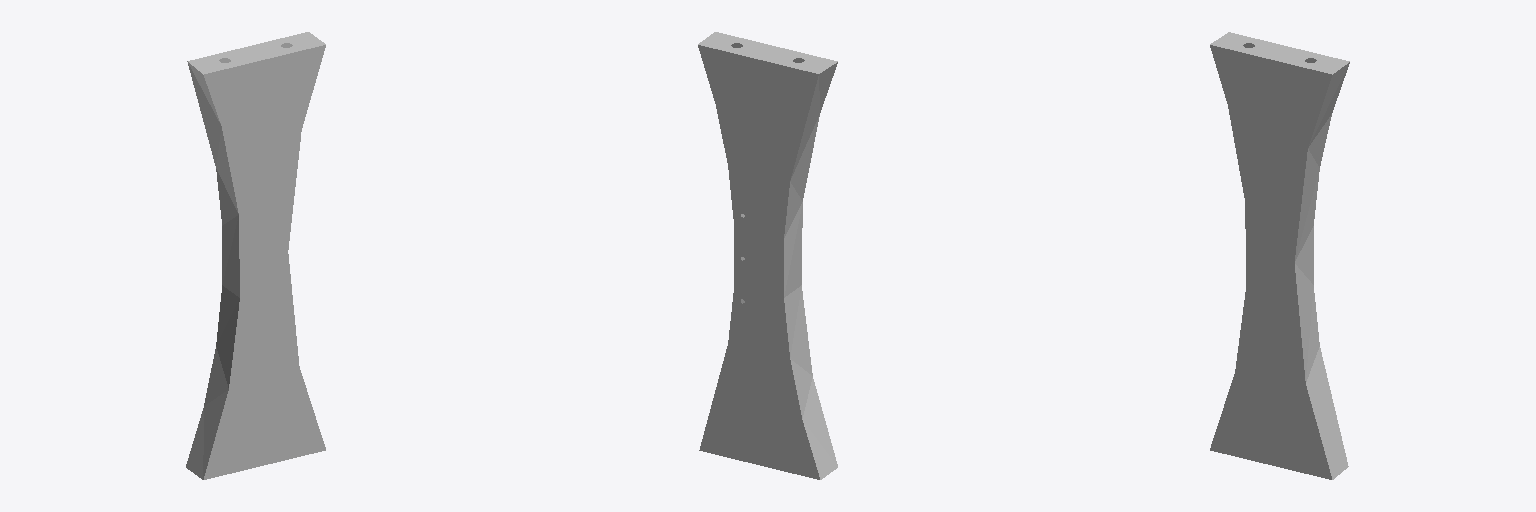
File: travessa_d.obj
The picture shows the model from 3 angles: view 1: azimuth 30°, elevation 25°; view 2: azimuth 150°, elevation 25°; view 3: azimuth 330°, elevation 25°; orthographic projection.
Size of the model in its own units: 0.06 by 0.189 by 0.015.